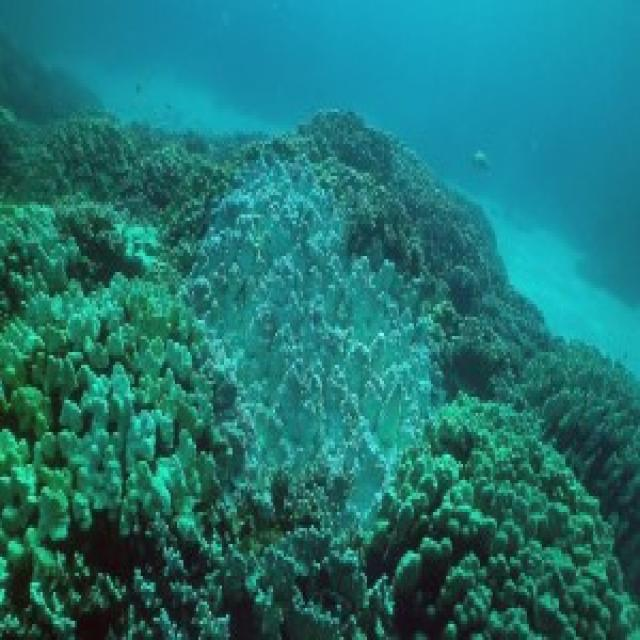Bleached: (189, 155, 430, 516)
Healthy: (1, 206, 251, 638), (368, 398, 639, 638), (300, 113, 543, 327), (144, 475, 364, 638), (522, 340, 639, 638), (3, 119, 231, 247)
